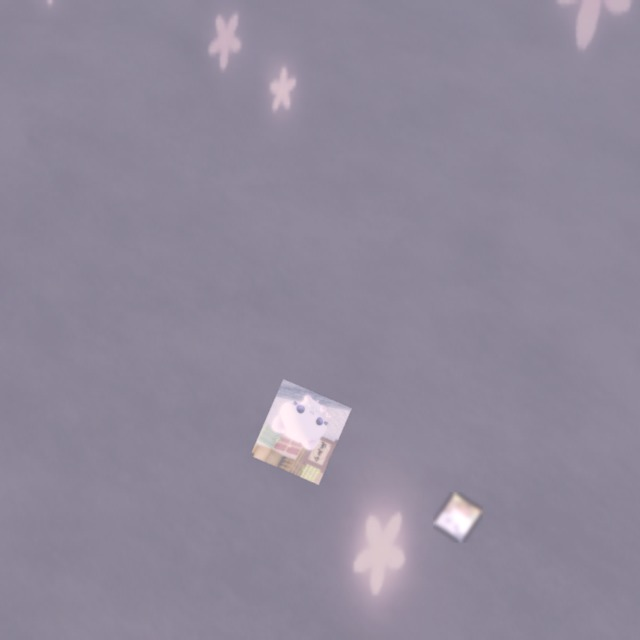urso_branco: (250, 379, 352, 485), (433, 492, 483, 543)
